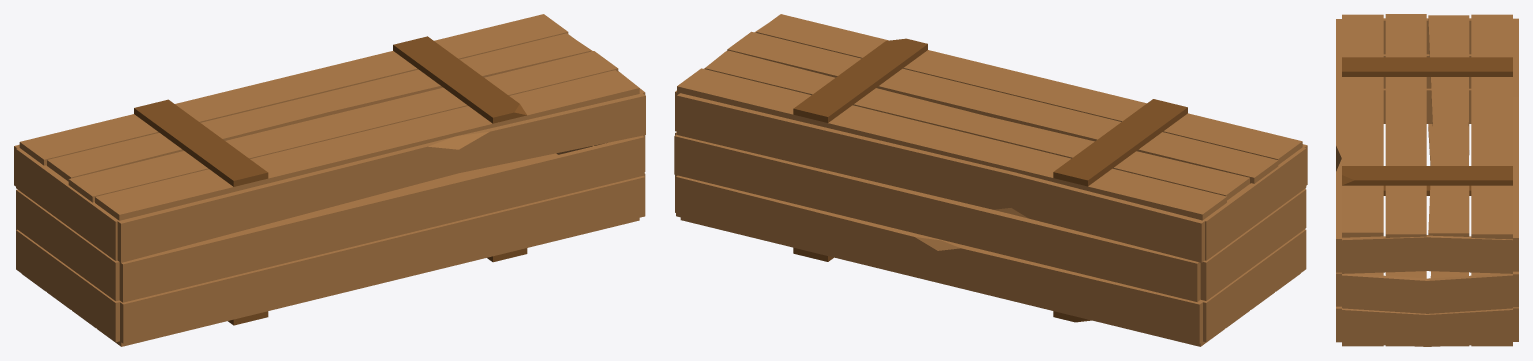
File: Crate.002.fbx
The picture shows the model from 3 angles, left to right: view 1: azimuth 30°, elevation 25°; view 2: azimuth 150°, elevation 25°; view 3: azimuth 270°, elevation 25°; orthographic projection. The views are drawn at different scales.
Visible parts, largest first — view 1: Crate.002; view 2: Crate.002; view 3: Crate.002.
Boxes of the visible parts, x1,y1,x2,y2 form: Crate.002: [14, 14, 645, 346]; Crate.002: [674, 14, 1307, 346]; Crate.002: [1336, 14, 1518, 346].
Size of the model in its own units: 1.84 by 0.48 by 0.64.
